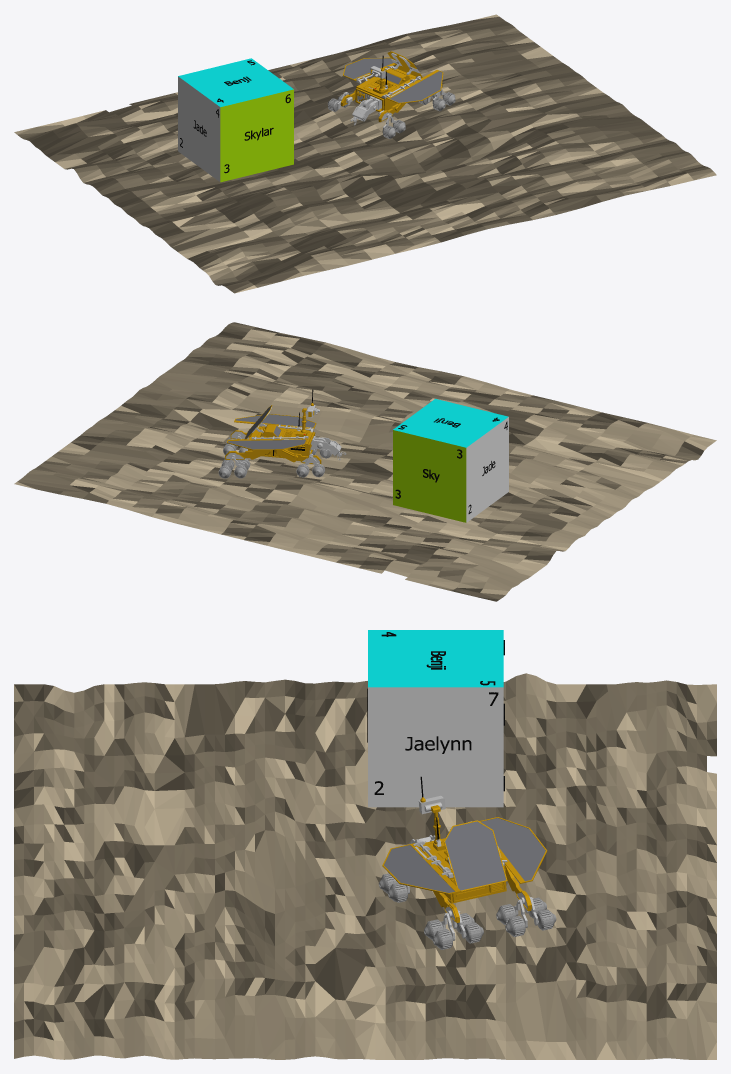
Rendered from Inquiry Cube.glb.
3 views of the same model, one above another, from view 1: azimuth 30°, elevation 25°; view 2: azimuth 150°, elevation 25°; view 3: azimuth 270°, elevation 25° (orthographic). The views are drawn at different scales.
Visible parts, largest first — view 1: skp; view 2: skp; view 3: skp.
Part boxes in pixels (x1=…): skp: x1=14, y1=14, x2=716, y2=293; skp: x1=14, y1=322, x2=716, y2=601; skp: x1=14, y1=630, x2=716, y2=1059.
Bounding box in the file's own units: 75.53 × 13.65 × 59.74.
